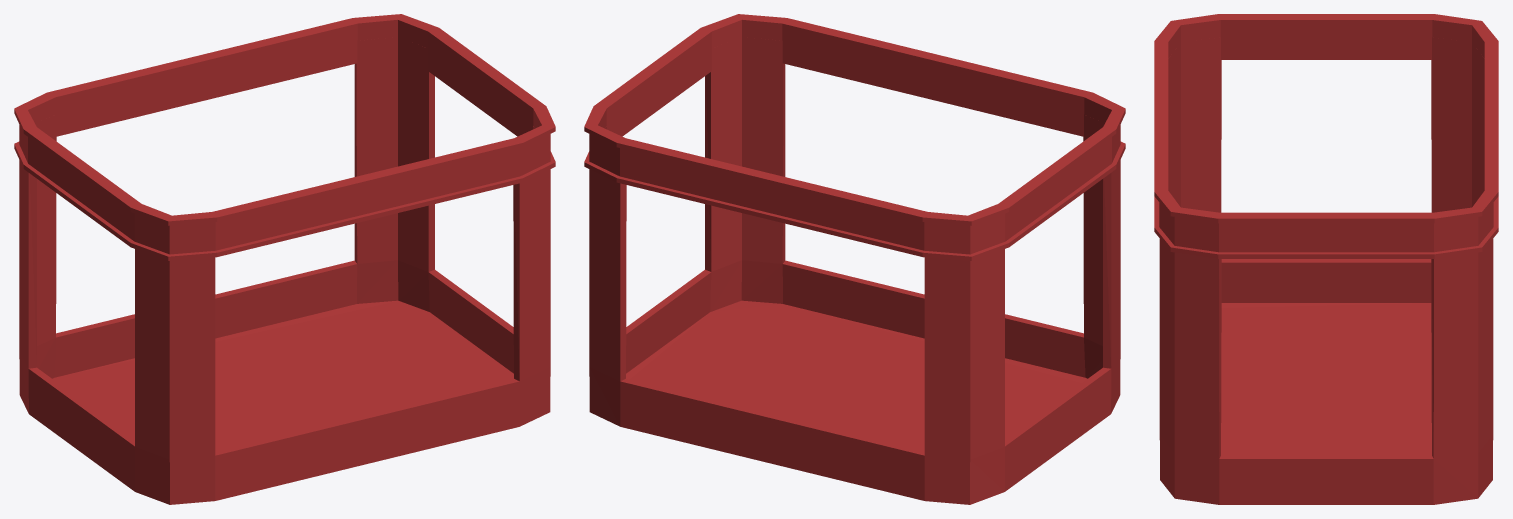
The model's file is SM_bottlecase_01.fbx.
The picture shows the model from 3 angles, left to right: view 1: azimuth 30°, elevation 25°; view 2: azimuth 150°, elevation 25°; view 3: azimuth 270°, elevation 25°; orthographic projection.
Visible parts, largest first — view 1: Object014; view 2: Object014; view 3: Object014.
Boxes of the visible parts, x1=… form: Object014: x1=14, y1=14, x2=555, y2=504; Object014: x1=584, y1=14, x2=1125, y2=504; Object014: x1=1154, y1=14, x2=1498, y2=504.
Size of the model in its own units: 23.37 by 16.61 by 15.36.
